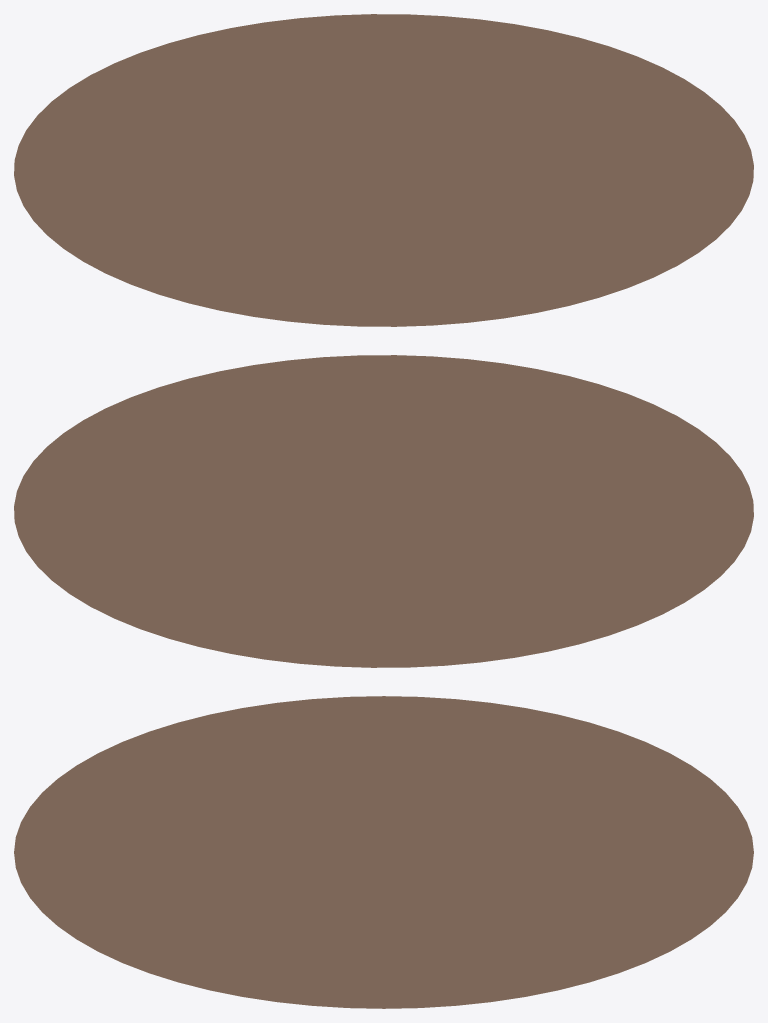
Rendered from Ground.fbx.
3 renders of one model, top to bottom at view 1: azimuth 30°, elevation 25°; view 2: azimuth 150°, elevation 25°; view 3: azimuth 270°, elevation 25°, orthographic.
Parts seen in each view (by area): view 1: pDisc1; view 2: pDisc1; view 3: pDisc1.
Boxes of the visible parts, <box> form: pDisc1: <box>14,14,753,326</box>; pDisc1: <box>14,355,753,667</box>; pDisc1: <box>14,696,753,1008</box>.
Size of the model in its own units: 37.22 by 0 by 37.22.
